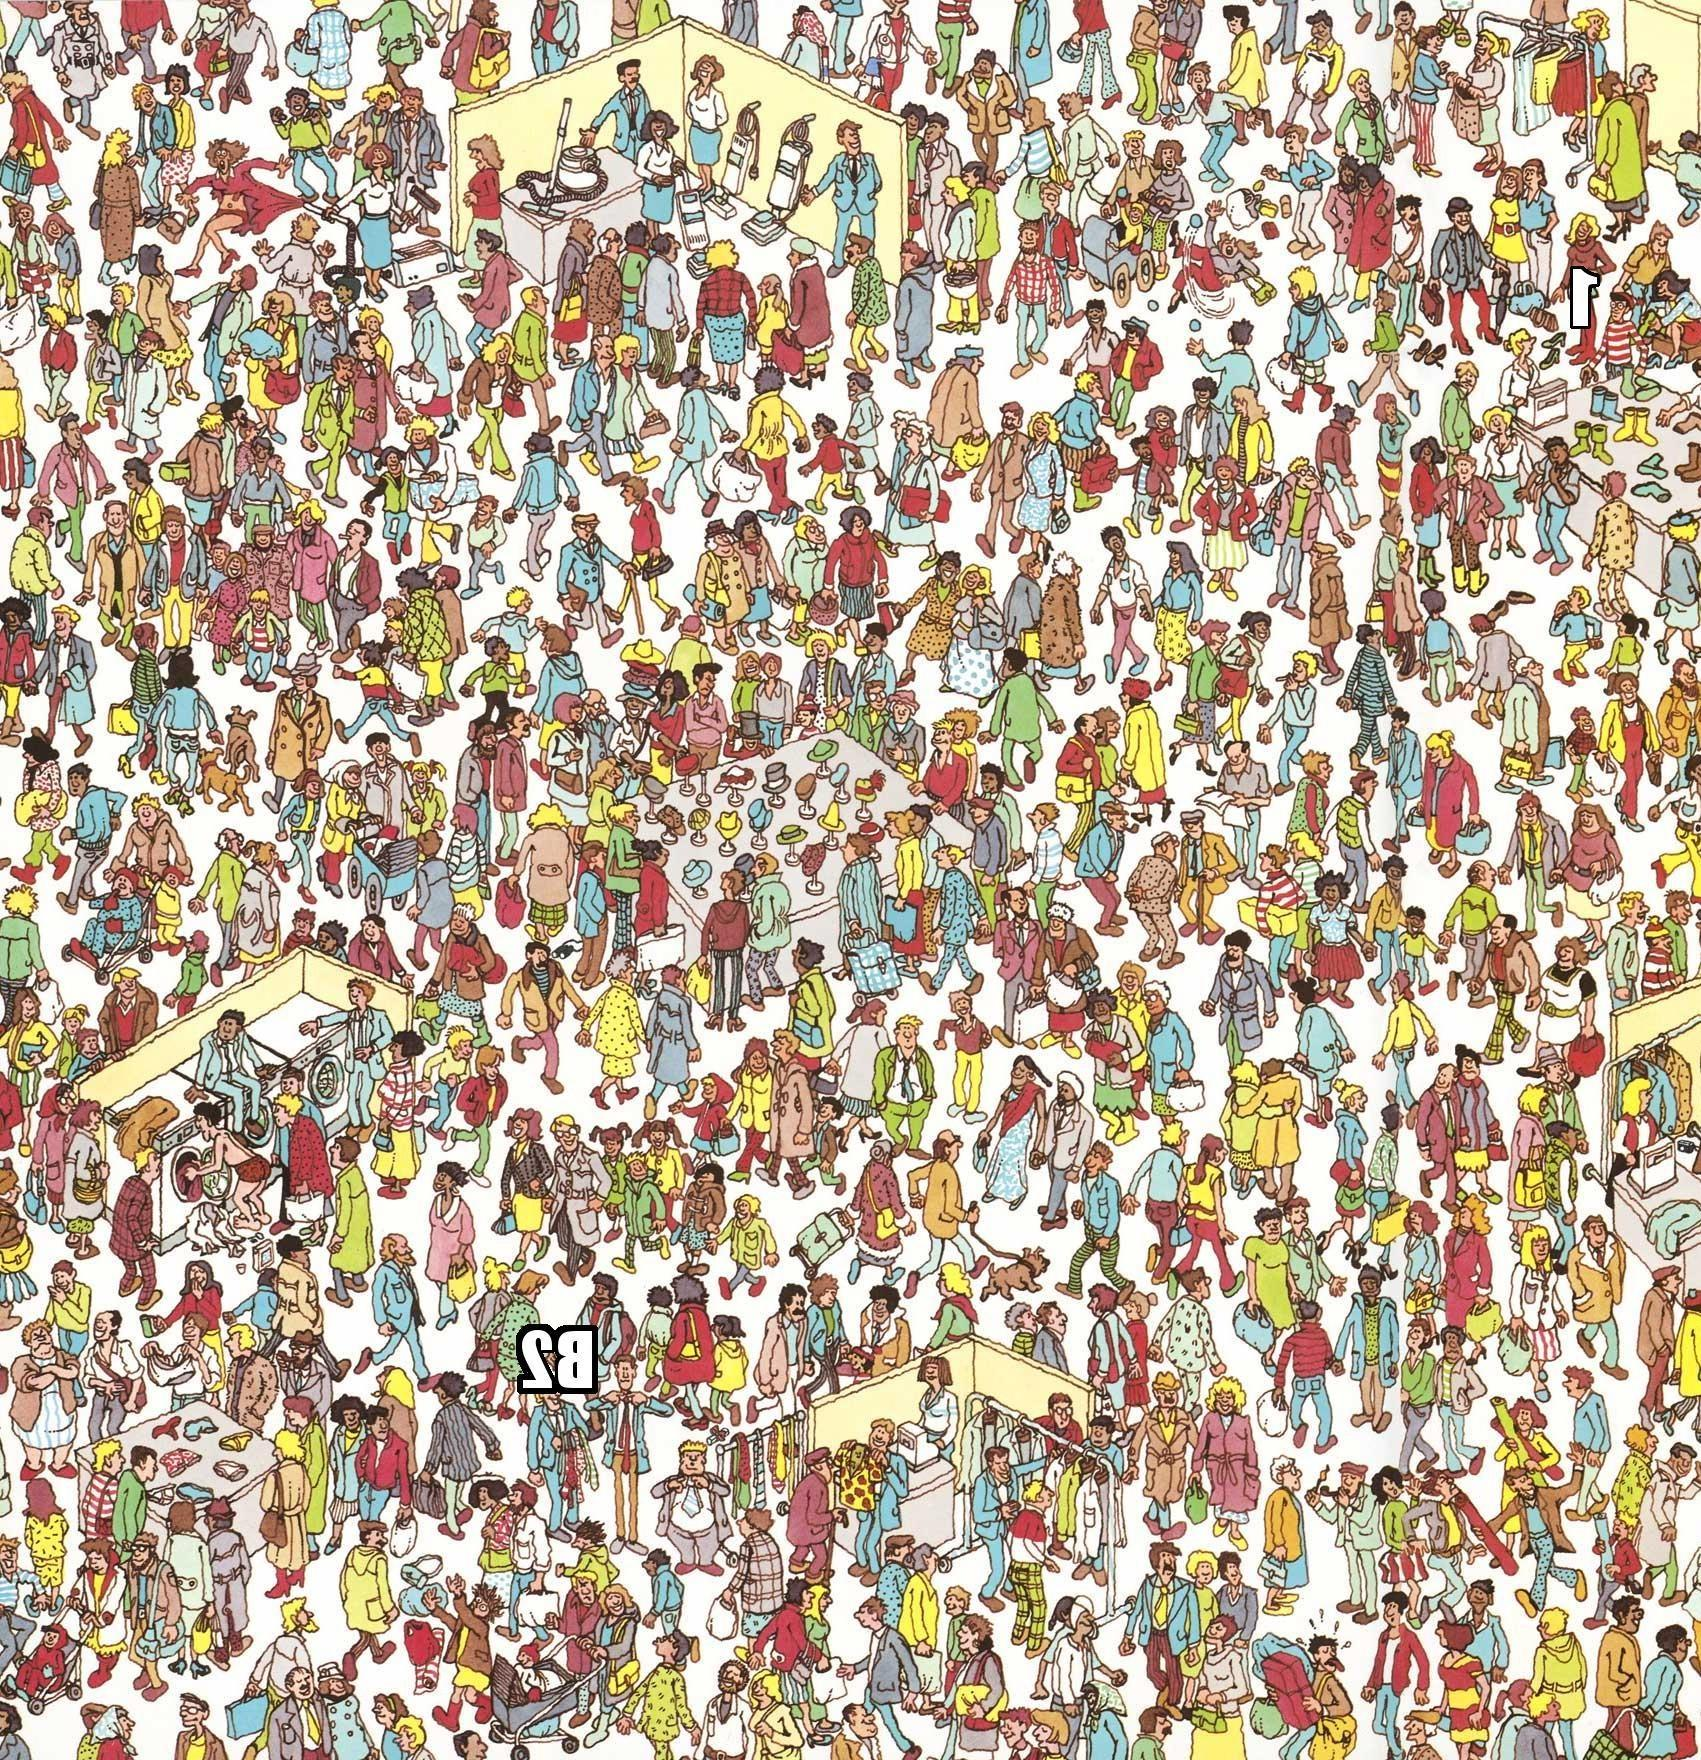waldos: (1578, 286, 1649, 382)
